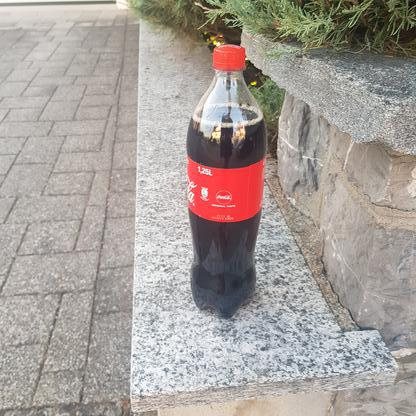coca-cola: (181, 43, 268, 321)
